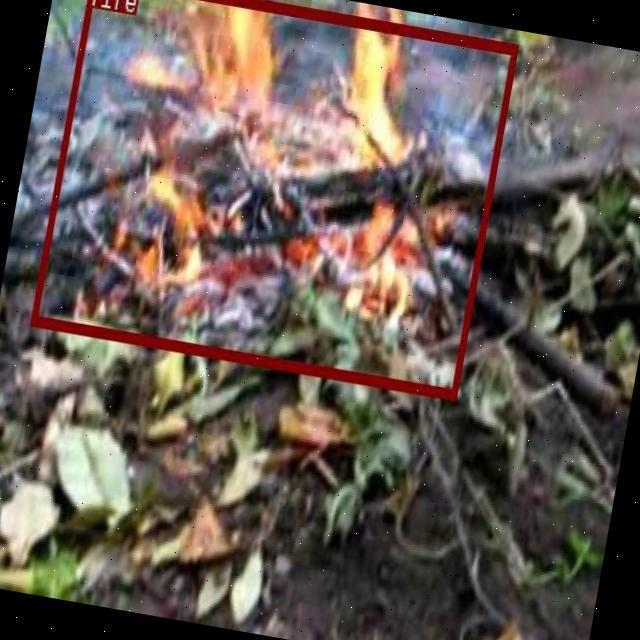fire: (29, 0, 517, 398)
